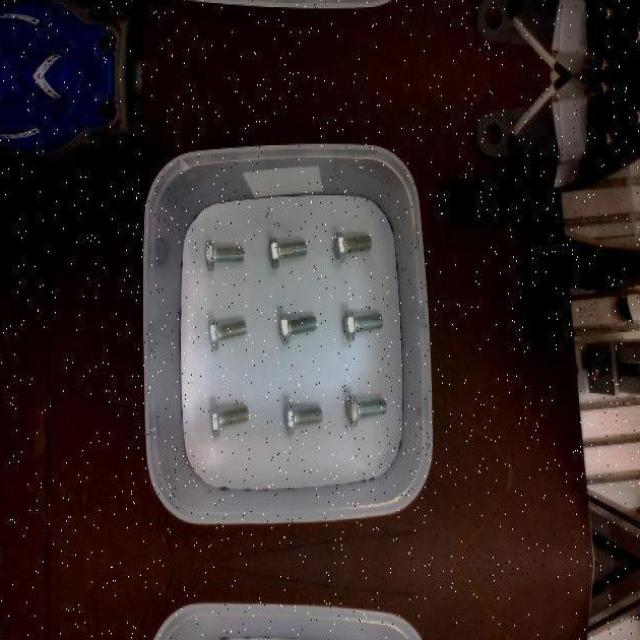screw: (345, 392, 387, 426), (210, 403, 250, 438), (207, 318, 248, 350), (284, 403, 323, 436), (343, 308, 383, 340), (268, 237, 308, 269), (334, 231, 373, 263), (279, 312, 318, 344), (206, 240, 245, 270)
